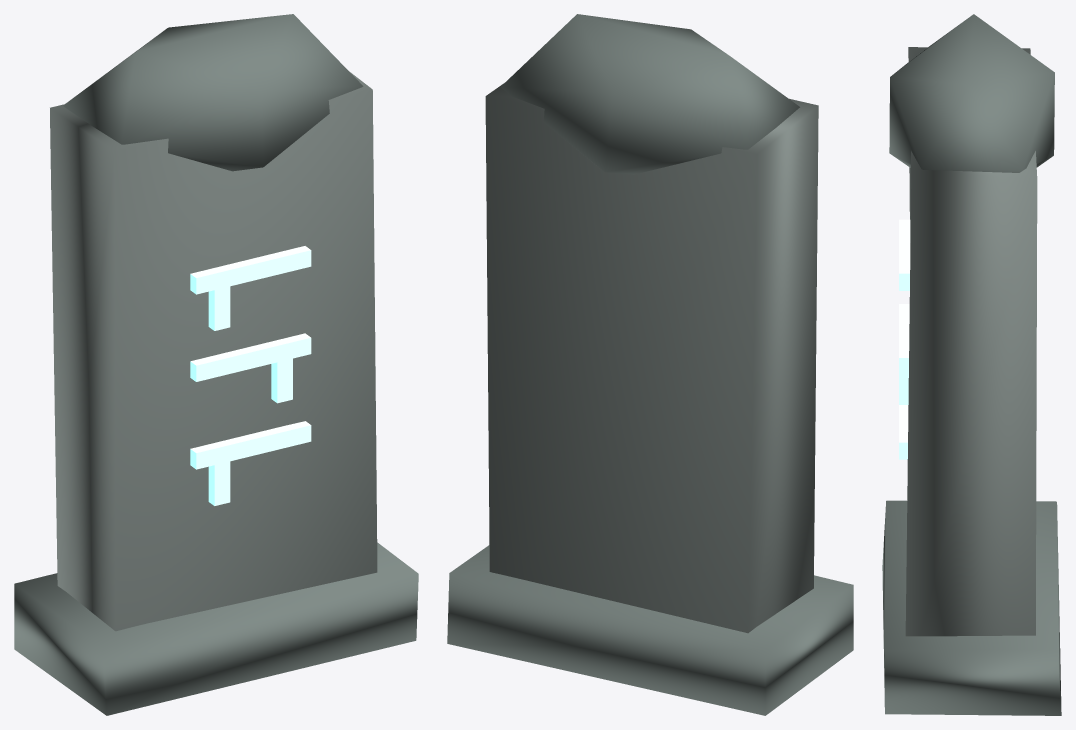
File: stage1_rune_stone.glb
3 views of the same model, side by side, from view 1: azimuth 30°, elevation 25°; view 2: azimuth 150°, elevation 25°; view 3: azimuth 270°, elevation 25° (orthographic). The views are drawn at different scales.
Visible parts, largest first — view 1: stage1_rune_stone_stone, stage1_rune_stone_stone2, glyphs_runeGlow; view 2: stage1_rune_stone_stone, stage1_rune_stone_stone2; view 3: stage1_rune_stone_stone, stage1_rune_stone_stone2, glyphs_runeGlow.
Part boxes in pixels (bbox=[...]): stage1_rune_stone_stone: bbox=[50, 71, 377, 631]; stage1_rune_stone_stone2: bbox=[14, 14, 418, 715]; glyphs_runeGlow: bbox=[190, 246, 311, 505]; stage1_rune_stone_stone: bbox=[485, 83, 818, 633]; stage1_rune_stone_stone2: bbox=[447, 14, 853, 715]; stage1_rune_stone_stone: bbox=[905, 47, 1037, 636]; stage1_rune_stone_stone2: bbox=[882, 14, 1061, 715]; glyphs_runeGlow: bbox=[899, 219, 910, 459].
Bounding box in the file's own units: 0.6041 × 1.13 × 0.3079.
